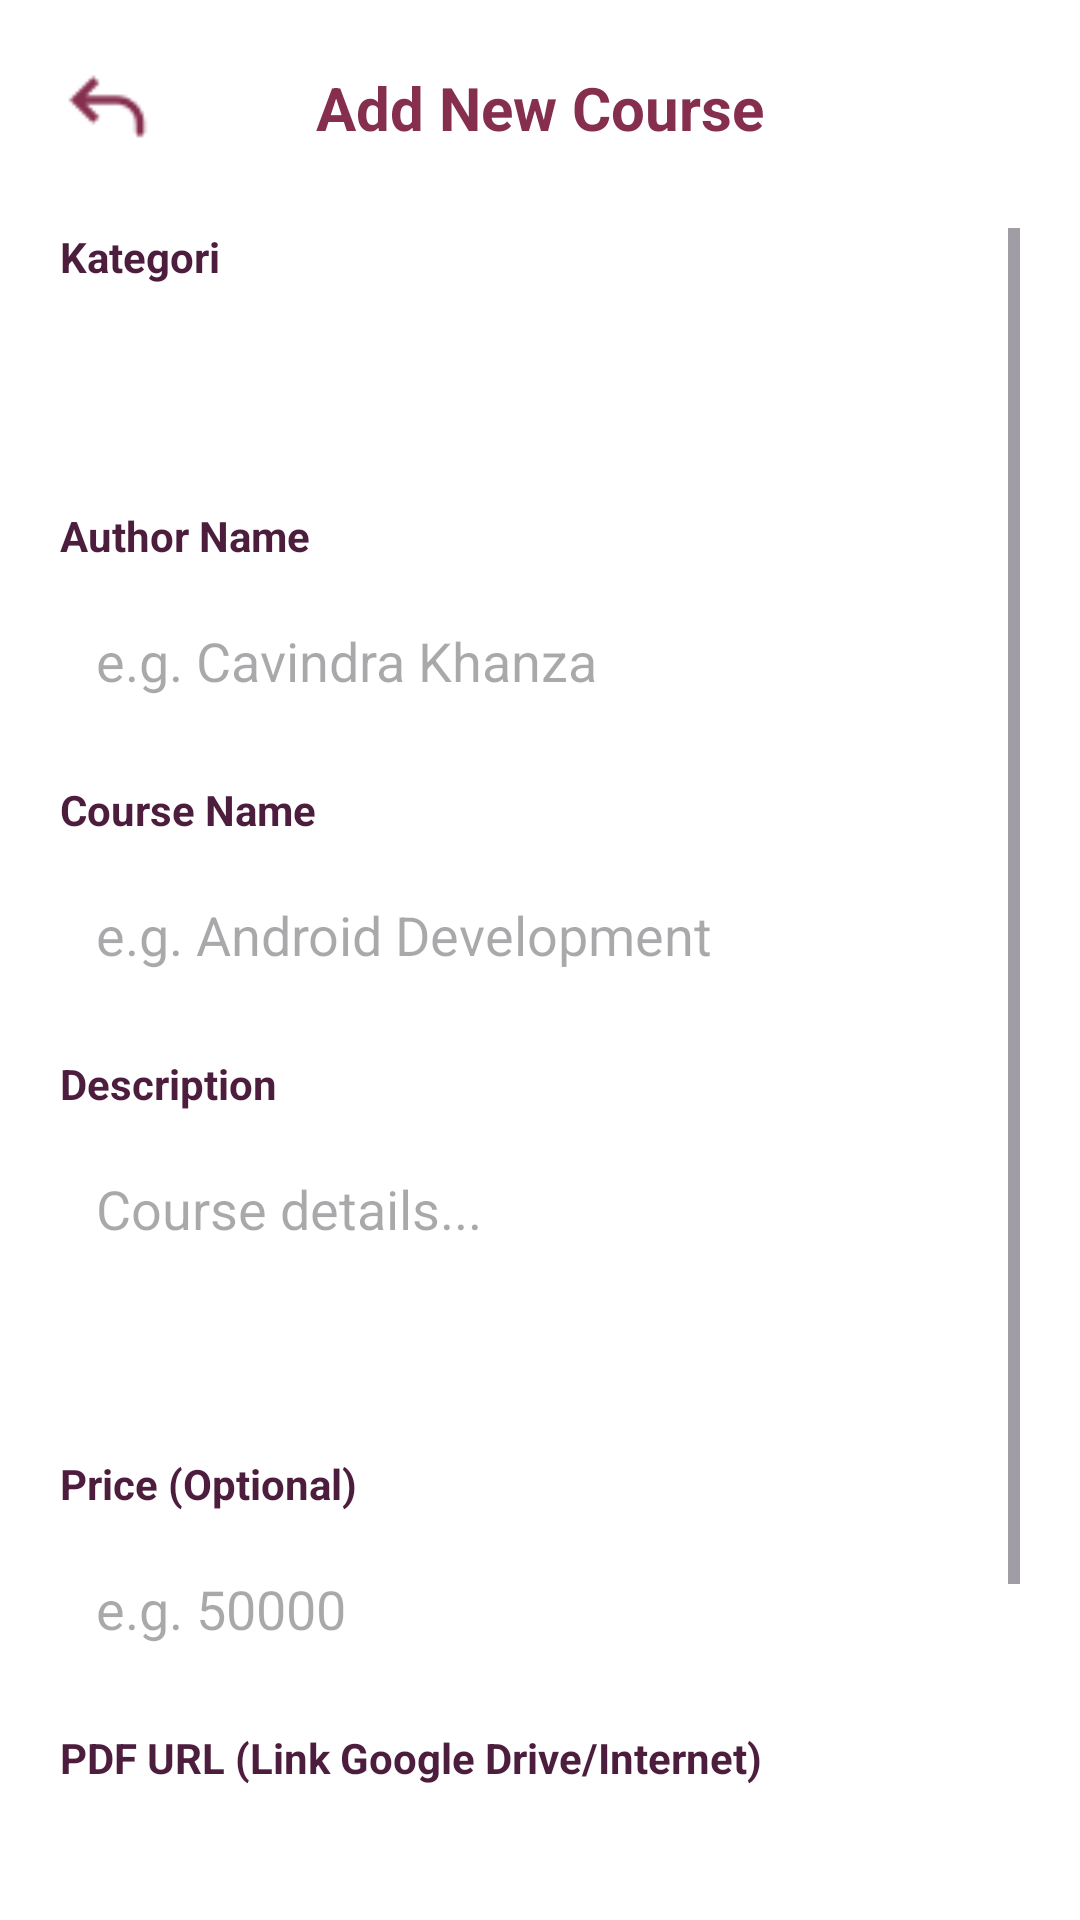

Where icons sit on this 1080px×1920px app screen, as (x1, y1, x2, y2):
back: (69, 75, 147, 138)
